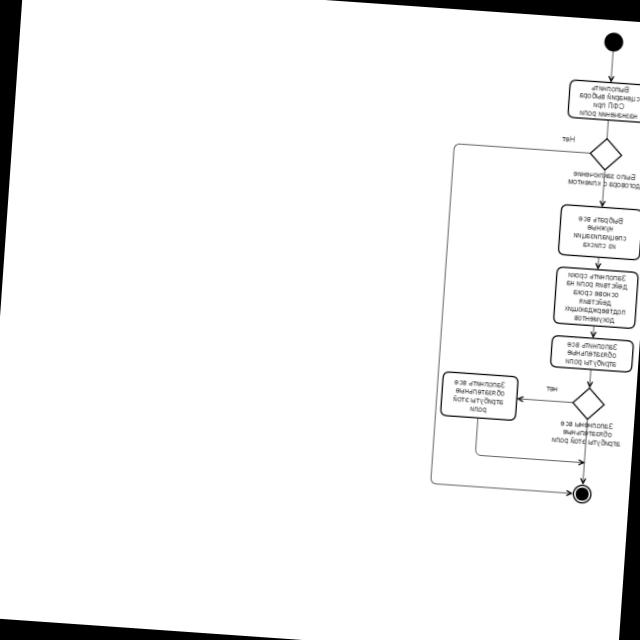arrow: (428, 139, 596, 497), (468, 418, 584, 466), (579, 420, 591, 484), (596, 167, 610, 207), (606, 50, 618, 84), (582, 368, 596, 388), (602, 120, 613, 138), (588, 324, 600, 338), (592, 258, 604, 270)
circle: (572, 484, 592, 504), (604, 33, 622, 51)
diamond: (572, 388, 602, 419), (590, 139, 620, 170)
rectangle: (552, 267, 637, 328), (557, 204, 639, 260), (440, 372, 517, 420), (567, 80, 639, 122), (549, 336, 632, 372)
text_region: (545, 412, 623, 450), (567, 165, 640, 192), (556, 130, 579, 146), (540, 384, 560, 396)
